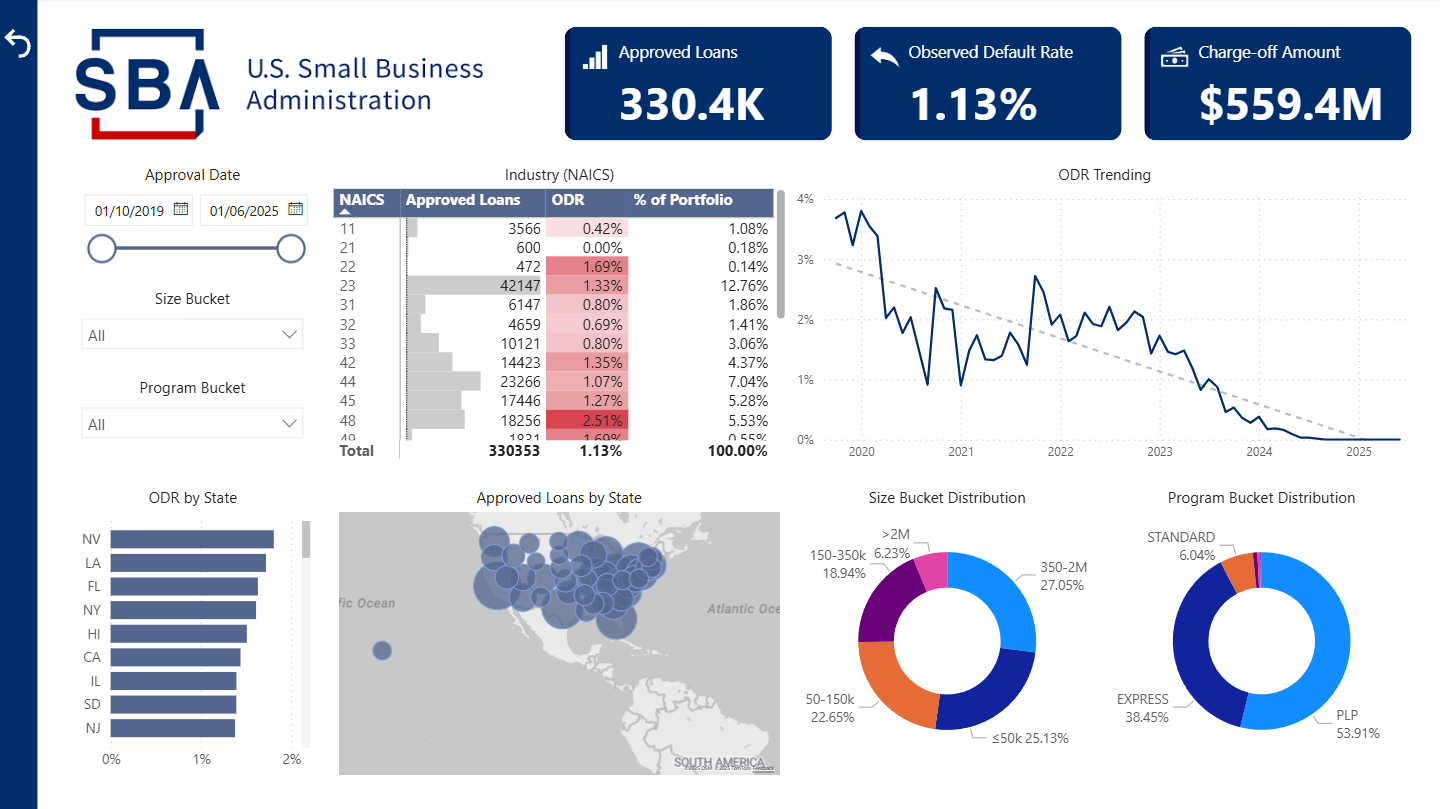

The page's visual inventory and layout, read from the dashboard file:
{"tool":"powerbi","page":{"name":"Executive","canvas":[1280,720],"ordinal":0},"visuals":[{"type":"shape","box":[792.2,21.3,225,100],"z":0},{"type":"shape","box":[549.8,21.3,225.2,100.2],"z":1000},{"type":"shape","box":[1034.4,20.4,225.2,100.2],"z":2000},{"type":"shape","box":[0,0,35.3,719.7],"z":3000},{"type":"card","fields":{"Values":["Measure Table.Approved"]},"box":[549.8,21.3,225.2,100.2],"z":4000},{"type":"card","fields":{"Values":["Measure Table.ODR"]},"box":[791.8,21.3,225.2,100.2],"z":5000},{"type":"card","fields":{"Values":["Sum(fact_loans.gross_charge_off_amount)"]},"box":[1034.8,21.3,225.2,100.2],"z":6000},{"type":"lineChart","title":"ODR by Approval Month","fields":{"Y":["Measure Table.ODR (stable)"],"Category":["fact_loans.approval_ym.Variation.Date Hierarchy.Year","fact_loans.approval_ym.Variation.Date Hierarchy.Month"]},"box":[703.4,147.6,556.7,273.4],"z":7000},{"type":"map","title":"Approved Loans by State","fields":{"Category":["fact_loans.project_state"],"Size":["CountNonNull(fact_loans.gross_approval)"]},"box":[297,434,401,260],"z":8000},{"type":"clusteredBarChart","title":"ODR by State","fields":{"Category":["fact_loans.project_state"],"Y":["Measure Table.ODR"]},"box":[64,434,218,260],"z":9000},{"type":"pivotTable","title":"Industry (NAICS)","fields":{"Rows":["fact_loans.naics_code_2"],"Values":["CountNonNull(fact_loans.gross_approval)","Measure Table.ODR","Measure Table.% of Portfolio"]},"box":[292.4,147.6,411,267],"z":10000},{"type":"slicer","title":"Approval Date","fields":{"Values":["fact_loans.approval_ym"]},"box":[64.3,147.6,217.3,109.5],"z":11000},{"type":"slicer","title":"Size Bucket","fields":{"Values":["fact_loans.size_bucket"]},"box":[64.3,257.1,217.3,78.8],"z":12000},{"type":"slicer","title":"Program Bucket","fields":{"Values":["fact_loans.processing_bucket"]},"box":[64.3,335.8,217.3,78.8],"z":13000},{"type":"textbox","box":[64.3,20.8,414.6,89.6],"z":14000},{"type":"textbox","box":[64.3,102.3,446.3,37.1],"z":15000},{"type":"donutChart","title":"Size Bucket Distribution","fields":{"Category":["fact_loans.size_bucket"],"Y":["CountNonNull(fact_loans.size_bucket)"]},"box":[702.4,433.9,278.8,256.2],"z":16000},{"type":"donutChart","title":"Program Bucket Distribution","fields":{"Category":["fact_loans.processing_bucket"],"Y":["CountNonNull(fact_loans.processing_bucket)"]},"box":[981.2,433.9,277.9,256.2],"z":17000}]}

Visuals, with their boxes in screenshot pixels (x1, y1, x2, y2), scaled from the page's 1280x720 canvas onto the 1440x809 screenshot:
shape: rect(891, 24, 1144, 136)
shape: rect(619, 24, 872, 137)
shape: rect(1164, 23, 1417, 136)
shape: rect(0, 0, 40, 808)
card - Measure Table.Approved: rect(619, 24, 872, 137)
card - Measure Table.ODR: rect(891, 24, 1144, 137)
card - Sum(fact_loans.gross_charge_off_amount): rect(1164, 24, 1418, 137)
"ODR by Approval Month" lineChart: rect(791, 166, 1418, 473)
"Approved Loans by State" map: rect(334, 488, 785, 780)
"ODR by State" clusteredBarChart: rect(72, 488, 317, 780)
"Industry (NAICS)" pivotTable: rect(329, 166, 791, 466)
"Approval Date" slicer: rect(72, 166, 317, 289)
"Size Bucket" slicer: rect(72, 289, 317, 377)
"Program Bucket" slicer: rect(72, 377, 317, 466)
textbox: rect(72, 23, 539, 124)
textbox: rect(72, 115, 574, 157)
"Size Bucket Distribution" donutChart: rect(790, 488, 1104, 775)
"Program Bucket Distribution" donutChart: rect(1104, 488, 1416, 775)
